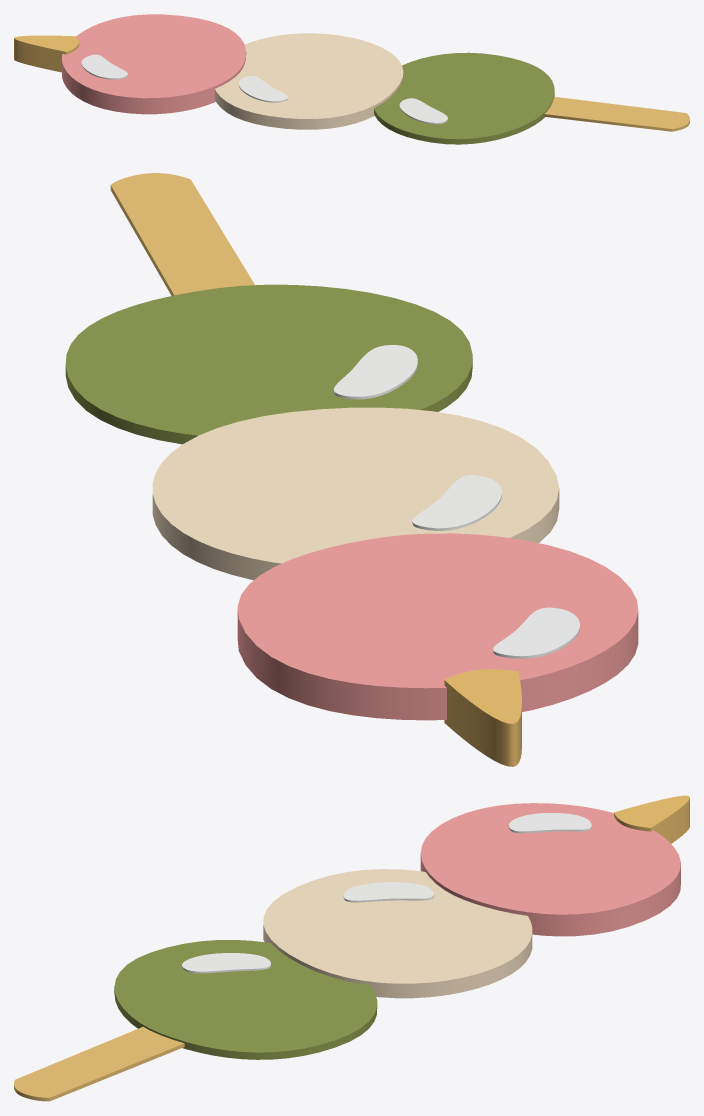
Rendered from emoji_u1f361.glb.
The picture shows the model from 3 angles, top to bottom: view 1: azimuth 30°, elevation 25°; view 2: azimuth 150°, elevation 25°; view 3: azimuth 270°, elevation 25°; orthographic projection. The views are drawn at different scales.
Visible parts, largest first — view 1: emoji_u1f361; view 2: emoji_u1f361; view 3: emoji_u1f361.
Part boxes in pixels (box(x1,y1,x2,y2)): emoji_u1f361: box(14, 14, 689, 144); emoji_u1f361: box(65, 173, 638, 766); emoji_u1f361: box(14, 795, 689, 1101).
Size of the model in its own units: 0.0342 by 0.0016 by 0.0337.
